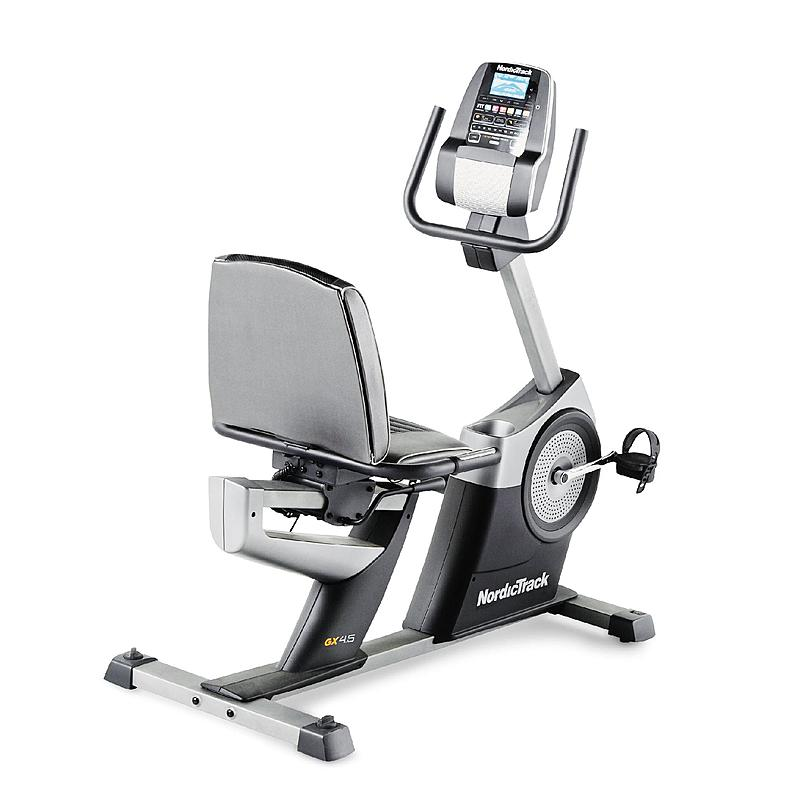gym_bike: (113, 56, 655, 774)
